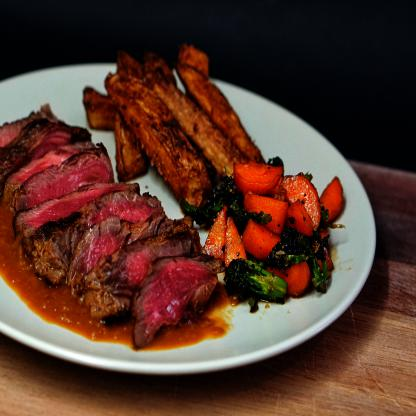Carne: (83, 235, 196, 330), (134, 251, 227, 346), (64, 184, 164, 264), (14, 144, 113, 214), (18, 182, 129, 232), (7, 131, 82, 198), (68, 214, 136, 285)
